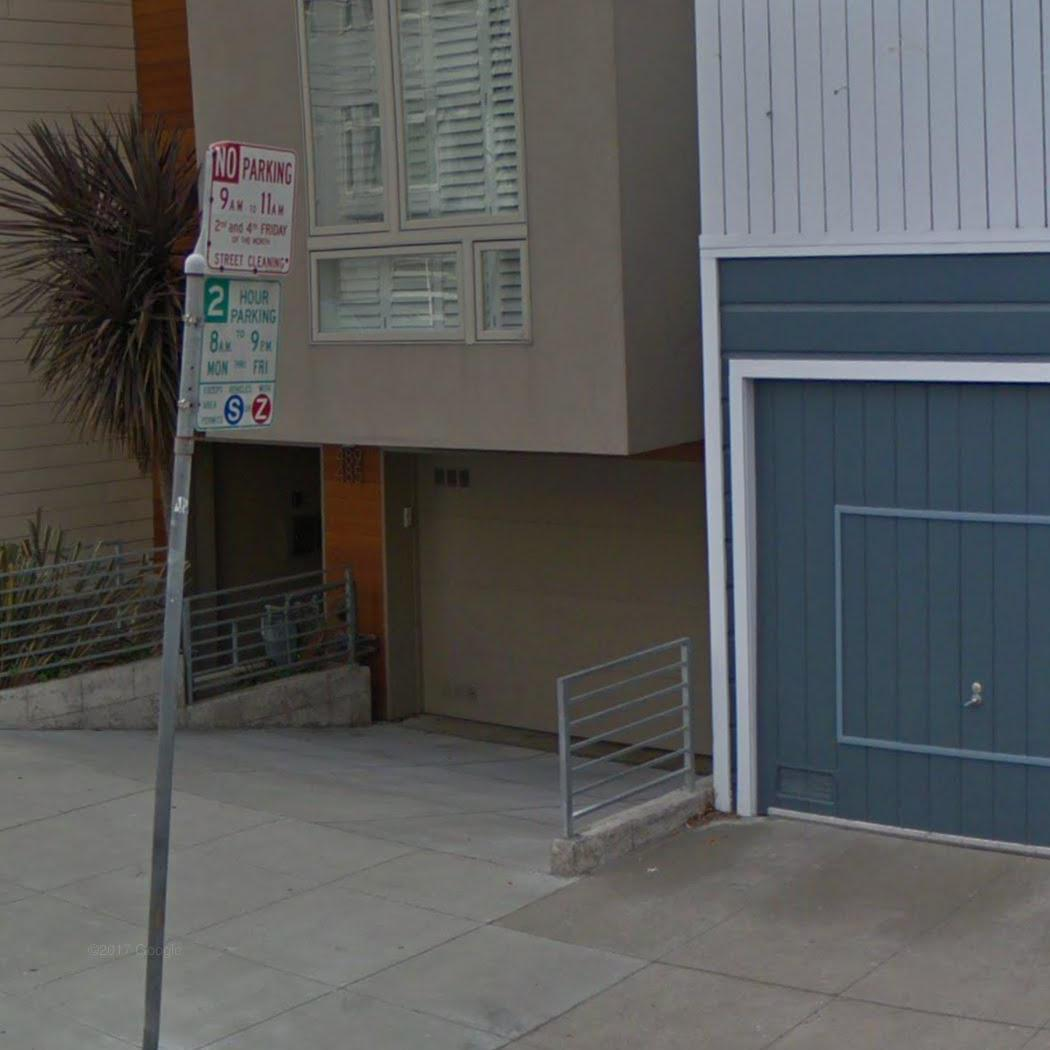2 Hour Parking: (194, 273, 283, 437)
No Parking: (202, 138, 300, 276)
